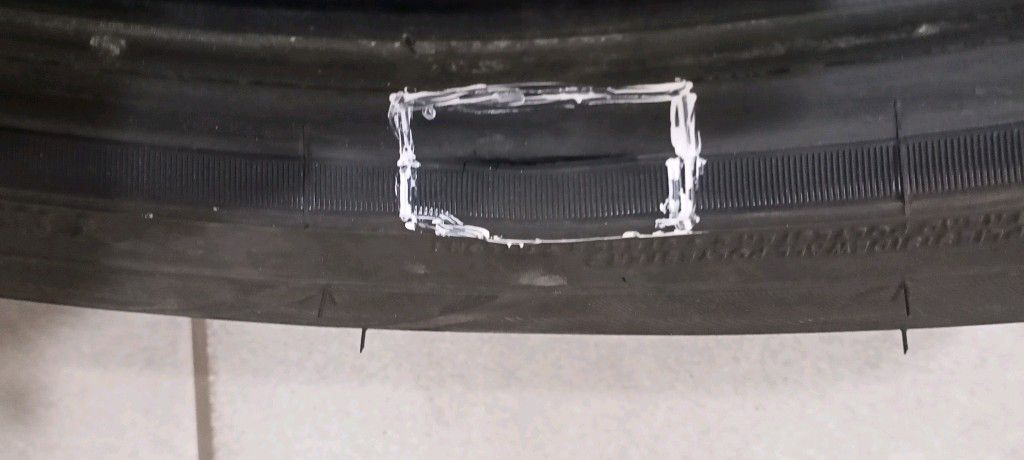cut: (456, 148, 638, 172)
